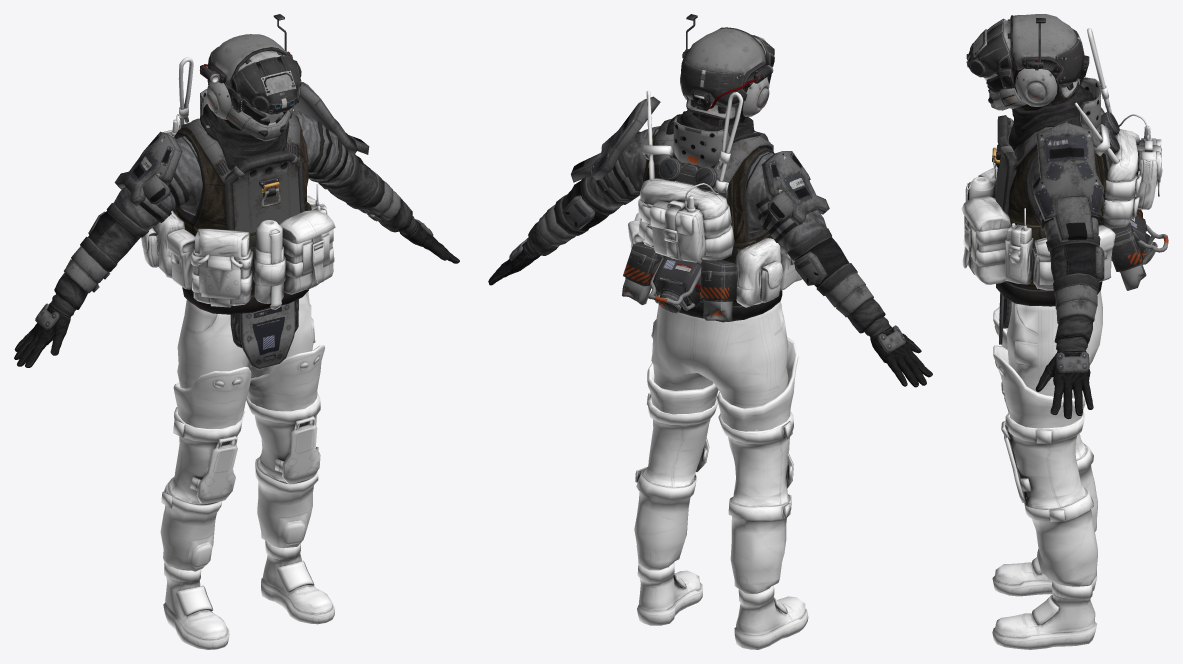
Rendered from teci_pilot.fbx.
3 views of the same model, side by side, from view 1: azimuth 30°, elevation 25°; view 2: azimuth 150°, elevation 25°; view 3: azimuth 270°, elevation 25° (orthographic). The views are drawn at different scales.
Visible parts, largest first — view 1: TECI_Pilot; view 2: TECI_Pilot; view 3: TECI_Pilot.
Part boxes in pixels (x1=…): TECI_Pilot: x1=14, y1=14, x2=459, y2=649; TECI_Pilot: x1=488, y1=14, x2=932, y2=649; TECI_Pilot: x1=961, y1=14, x2=1168, y2=649.
Bounding box in the file's own units: 1.45 × 1.9 × 0.5838.
